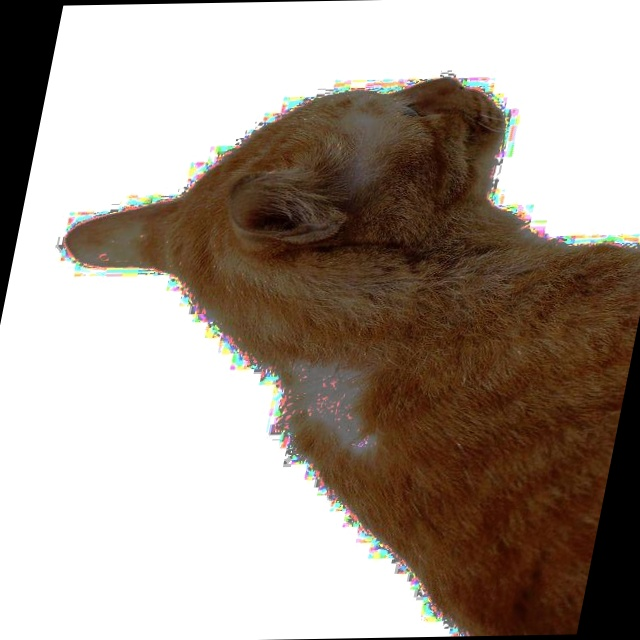hairloss: (290, 359, 373, 440)
